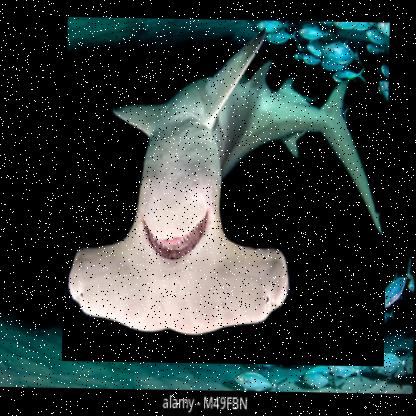hammerhead_Shark: (61, 17, 390, 368)
